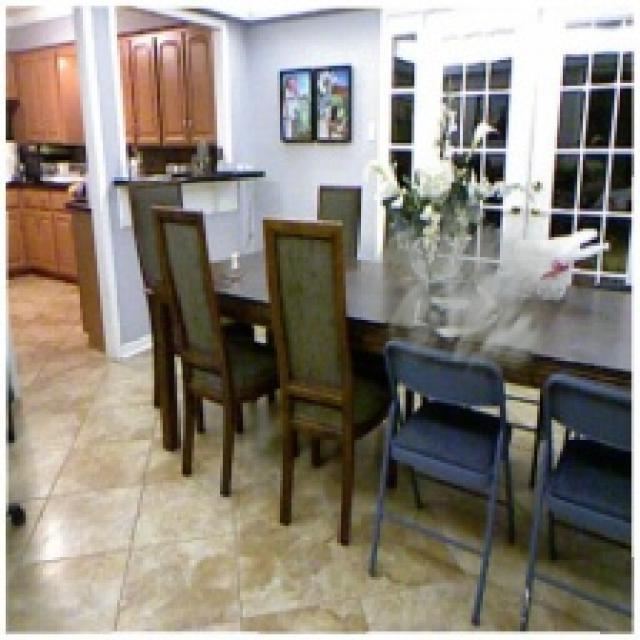Smoke: (354, 191, 580, 406)
